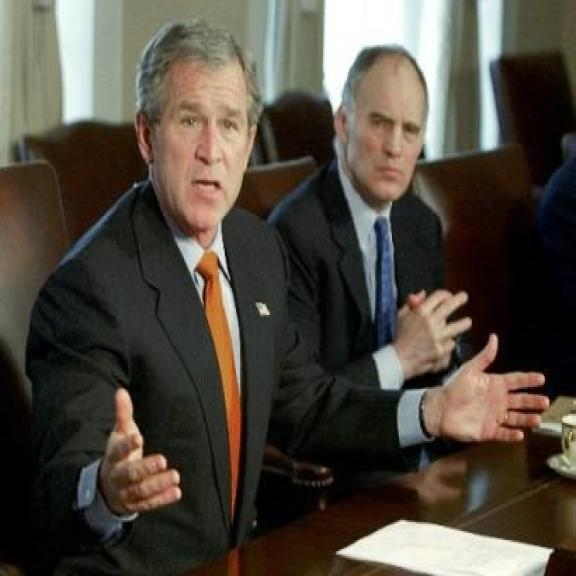face: (135, 56, 258, 236), (330, 54, 429, 207)
